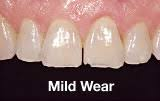rough: (82, 17, 123, 69), (43, 19, 82, 68), (123, 21, 152, 67), (16, 19, 42, 63), (1, 17, 16, 62), (153, 25, 160, 62)
